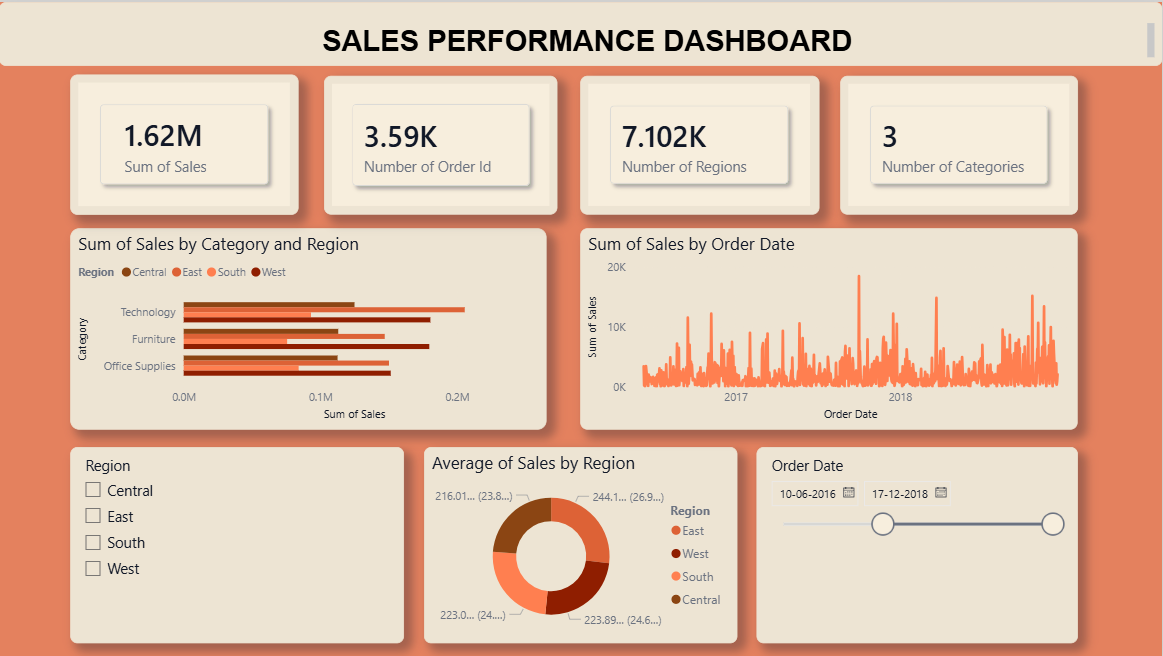

What the dashboard file says about the page in this screenshot:
{"tool":"powerbi","page":{"name":"Page 1","canvas":[1280,720],"ordinal":0},"visuals":[{"type":"clusteredBarChart","fields":{"Y":["Sum(train.Sales)"],"Series":["train.Region"],"Category":["train.Category"]},"box":[78.4,248.9,523.9,221.4],"z":0},{"type":"textbox","box":[0,0,1280.3,70.1],"z":1000},{"type":"cardVisual","fields":{"Data":["Sum(train.Sales)"]},"box":[78.6,80,251.4,154.3],"z":2000},{"type":"cardVisual","fields":{"Data":["Count(train.Category)"]},"box":[925.7,81.4,261.4,152.9],"z":3000},{"type":"cardVisual","fields":{"Data":["CountNonNull(train.Region)"]},"box":[640,81.4,262.9,152.9],"z":4000},{"type":"cardVisual","fields":{"Data":["Count(train.Order ID)"]},"box":[357.1,81.4,257.1,152.9],"z":5000},{"type":"donutChart","fields":{"Category":["train.Region"],"Y":["Avg(train.Sales)"]},"box":[467.6,489.6,345.2,215.9],"z":6000},{"type":"slicer","fields":{"Values":["train.Region"]},"box":[78.4,489.6,367.2,215.9],"z":7000},{"type":"lineChart","fields":{"Y":["Sum(train.Sales)"],"Category":["train.Order Date"]},"box":[639.4,248.9,547.3,221.4],"z":8000},{"type":"slicer","fields":{"Values":["train.Order Date"]},"box":[833.3,489.6,353.4,215.9],"z":8001}]}

Visuals, with their boxes in screenshot pixels (x1, y1, x2, y2), scaled from the page's 1280x720 canvas onto the 1163x656 screenshot:
clusteredBarChart - Sum(train.Sales) x train.Region: bbox=[71, 227, 547, 428]
textbox: bbox=[0, 0, 1162, 64]
cardVisual - Sum(train.Sales): bbox=[71, 73, 300, 213]
cardVisual - Count(train.Category): bbox=[841, 74, 1079, 213]
cardVisual - CountNonNull(train.Region): bbox=[582, 74, 820, 213]
cardVisual - Count(train.Order ID): bbox=[324, 74, 558, 213]
donutChart - train.Region x Avg(train.Sales): bbox=[425, 446, 739, 643]
slicer - train.Region: bbox=[71, 446, 405, 643]
lineChart - Sum(train.Sales) x train.Order Date: bbox=[581, 227, 1078, 428]
slicer - train.Order Date: bbox=[757, 446, 1078, 643]
